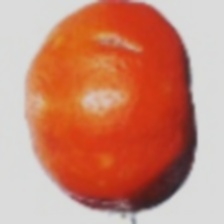tangerine: (2, 10, 191, 174)
